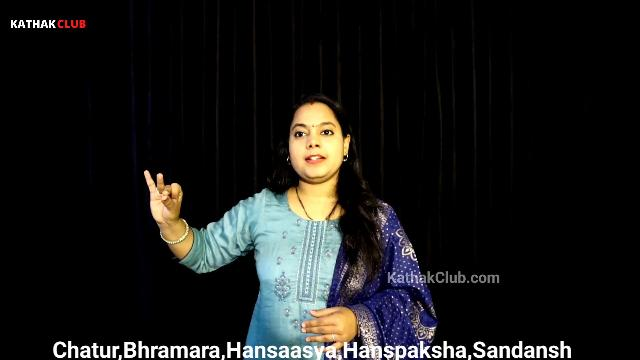bhramara: (136, 158, 204, 248)
